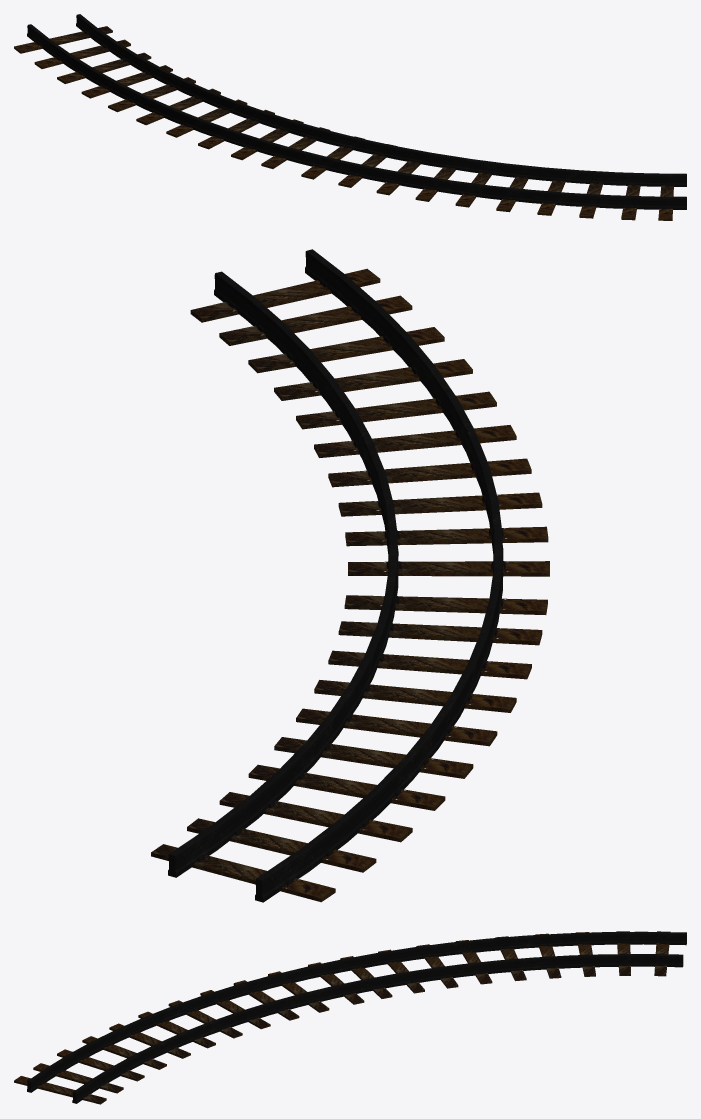
The model's file is track3.gltf.
The picture shows the model from 3 angles, top to bottom: view 1: azimuth 30°, elevation 25°; view 2: azimuth 150°, elevation 25°; view 3: azimuth 270°, elevation 25°; orthographic projection. The views are drawn at different scales.
Visible parts, largest first — view 1: Track_01polySurface161_lambert1_0.003; view 2: Track_01polySurface161_lambert1_0.003; view 3: Track_01polySurface161_lambert1_0.003.
Boxes of the visible parts, left/top/right/bottom form: Track_01polySurface161_lambert1_0.003: left=14, top=14, right=686, bottom=220; Track_01polySurface161_lambert1_0.003: left=151, top=249, right=549, bottom=902; Track_01polySurface161_lambert1_0.003: left=14, top=931, right=686, bottom=1104.
Bounding box in the file's own units: 161 × 5.12 × 266.
Materials: 1 (1 with a texture image).
